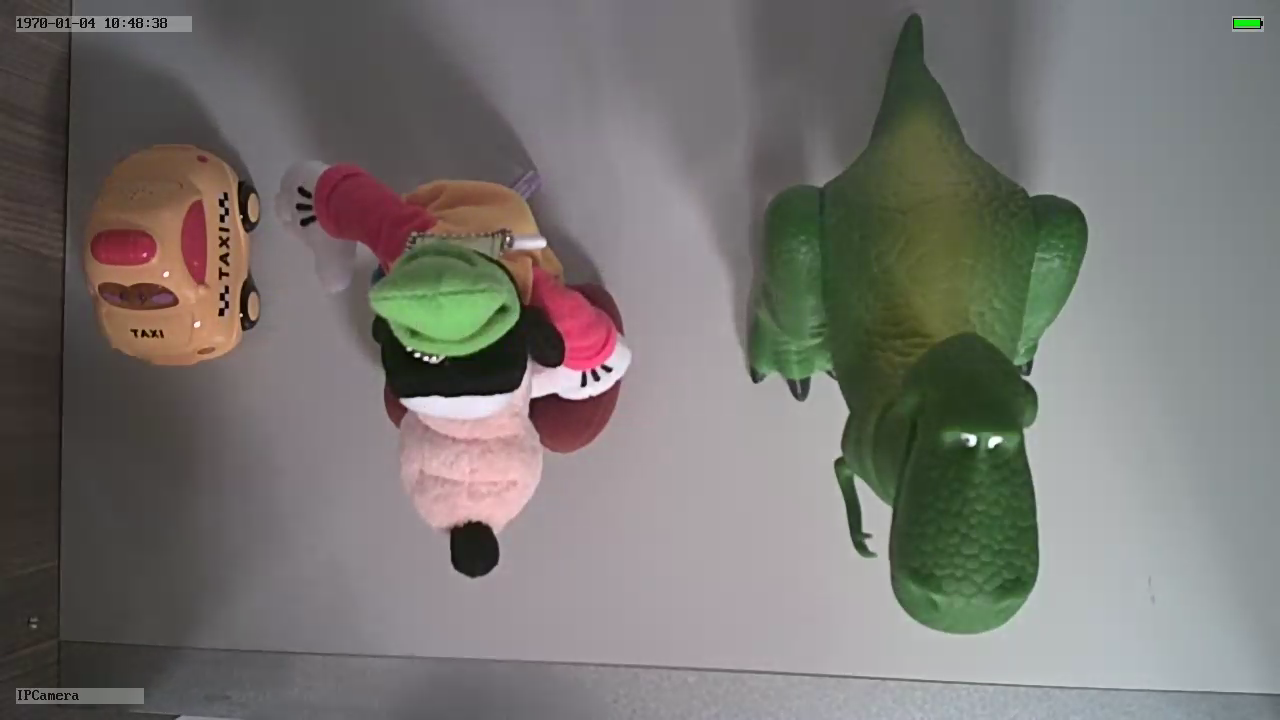goofy: (278, 160, 633, 578)
